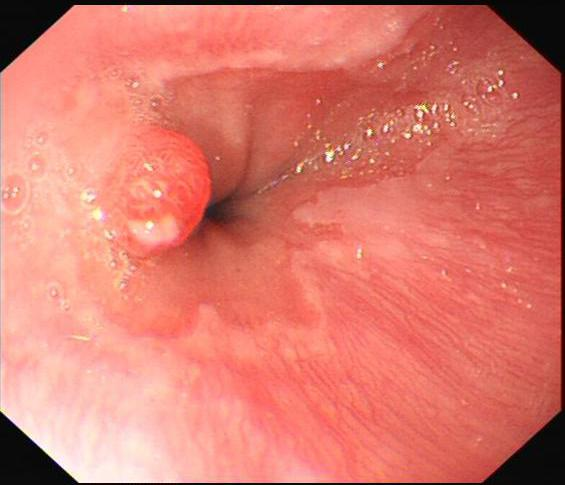Polyp: (60, 97, 224, 284)
